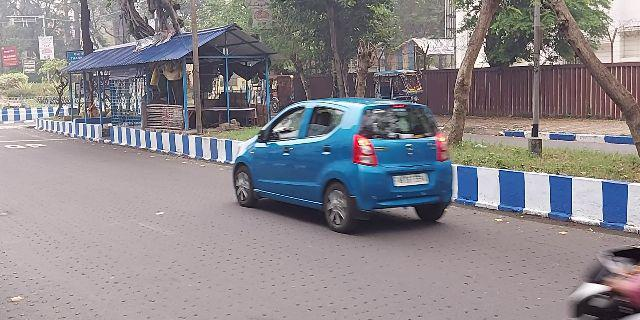Car: (230, 100, 454, 230)
